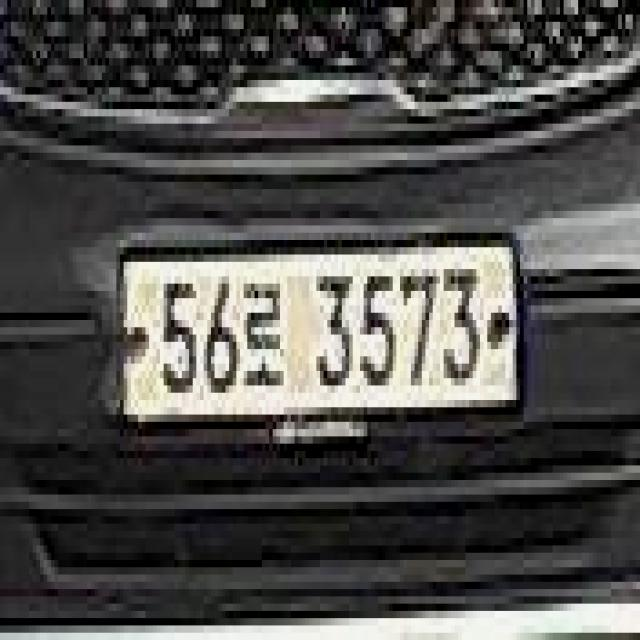illegal_plate: (113, 232, 532, 452)
